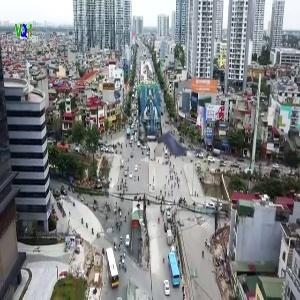drone: (149, 110, 217, 178)
